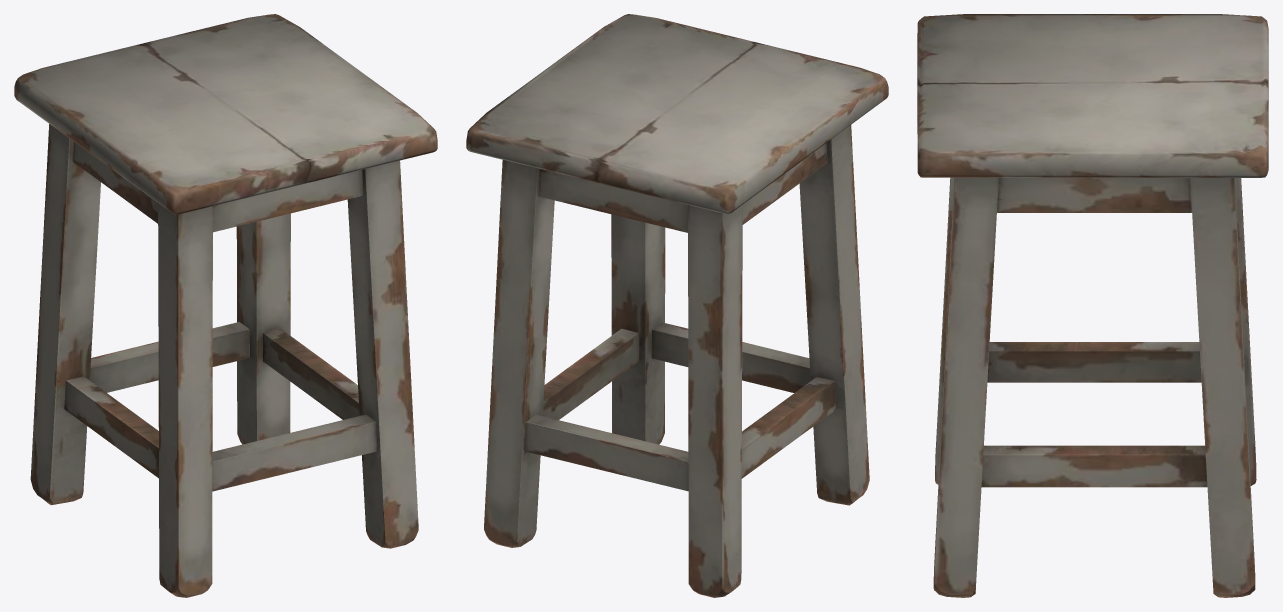
The model's file is stool-painted.glb.
3 views of the same model, side by side, from view 1: azimuth 30°, elevation 25°; view 2: azimuth 150°, elevation 25°; view 3: azimuth 270°, elevation 25° (orthographic). The views are drawn at different scales.
Visible parts, largest first — view 1: painted_wooden_stool; view 2: painted_wooden_stool; view 3: painted_wooden_stool.
Part boxes in pixels (x1,y1,x2,y2): painted_wooden_stool: (14,14,437,597); painted_wooden_stool: (466,14,888,597); painted_wooden_stool: (917,14,1268,597).
Bounding box in the file's own units: 0.3841 × 0.5789 × 0.4057.
1 material, 1 textured.
